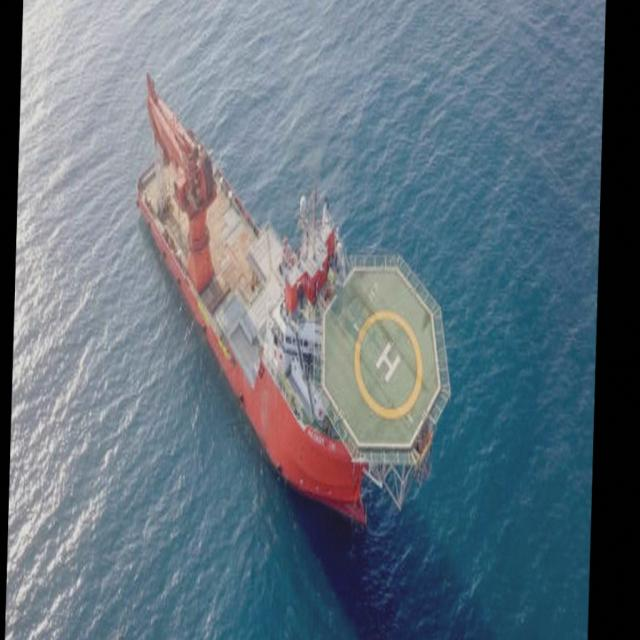helipad: (350, 306, 427, 422)
